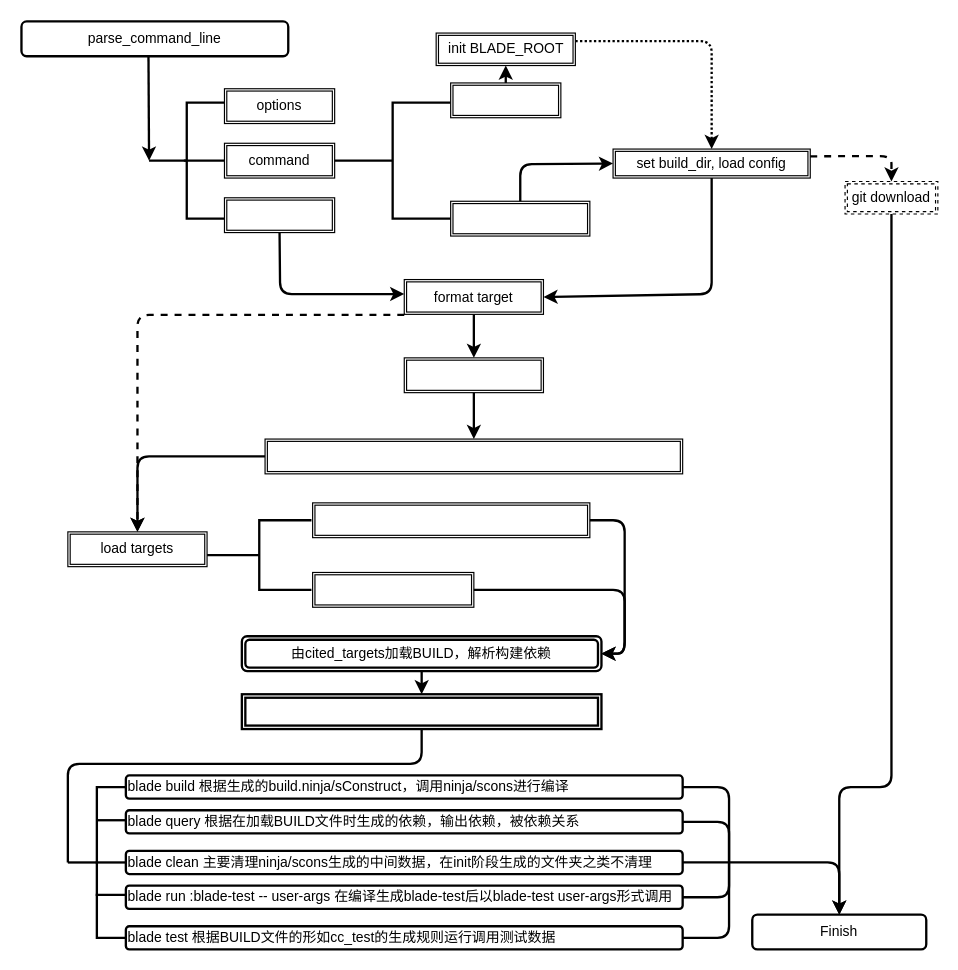
Image size: 958x970. Some labels were removed from this diagram. Here are the shapes that lost their labels. From the top down, the box of each, then its label:
(449, 82, 561, 118): init
(223, 197, 335, 233): targets
(449, 200, 590, 236): [build | query | ...]
(403, 357, 543, 393): run_subcommand
(264, 438, 683, 474): init Blade(全局唯一的类实例，存储了构建目标等信息), repo
(311, 502, 590, 538): cited_targets = BUILD(内部所有构建单元)
(311, 571, 474, 607): cited_targets = 构建目标
(240, 693, 602, 730): 生成ninja/scons的构建规则
